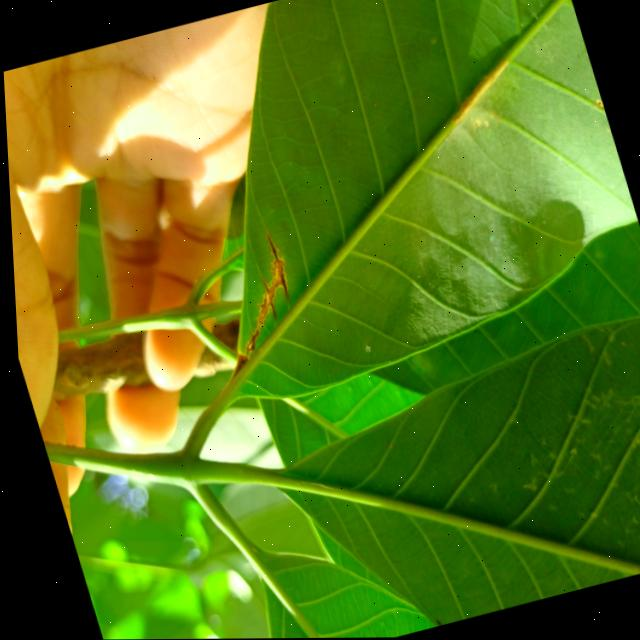Corynespora: (188, 226, 310, 378)
